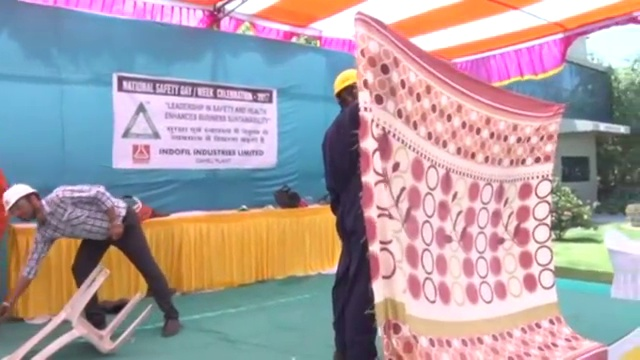helmet: (1, 183, 39, 215), (332, 65, 359, 97)
helmet_on: (1, 181, 51, 223), (331, 64, 360, 114)
person: (3, 179, 181, 344), (319, 64, 379, 360)
